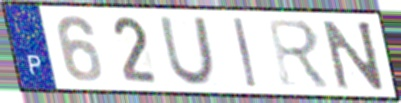2: (112, 15, 160, 86)
6: (53, 13, 104, 84)
I: (230, 15, 260, 90)
N: (319, 18, 388, 92)
R: (264, 17, 335, 92)
U: (157, 15, 218, 88)
